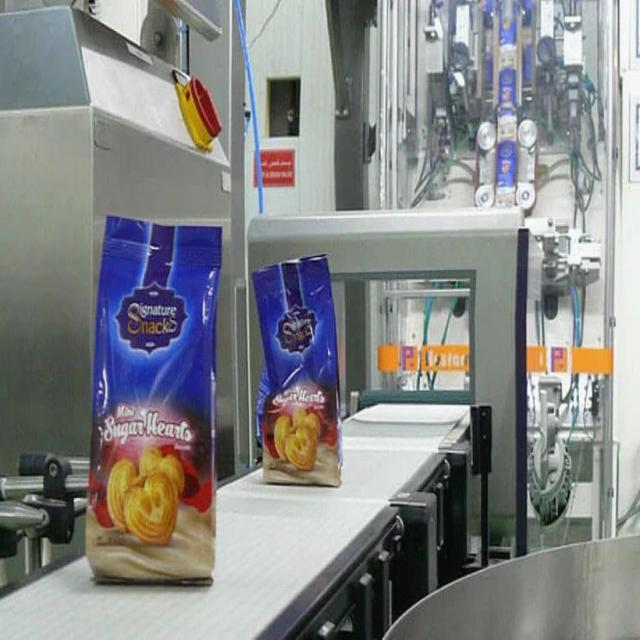food: (84, 212, 223, 587), (249, 251, 344, 488)
